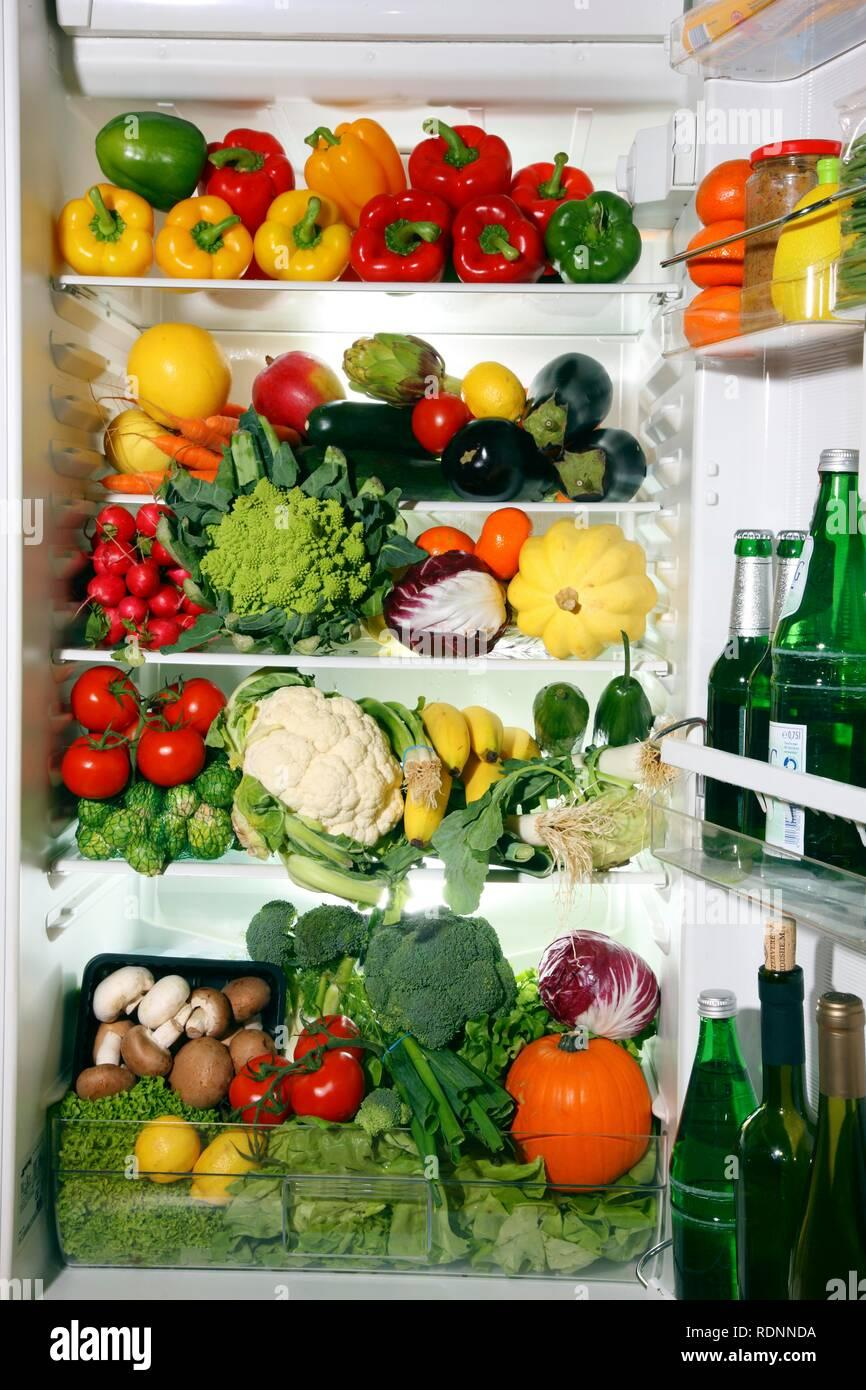banana: (432, 680, 548, 804)
bell pepper: (53, 120, 624, 295)
broccoli: (355, 912, 540, 1045)
cauliflower: (248, 680, 421, 849)
mushroom: (84, 970, 269, 1074)
orange: (476, 507, 532, 581)
tomato: (77, 666, 227, 776)
